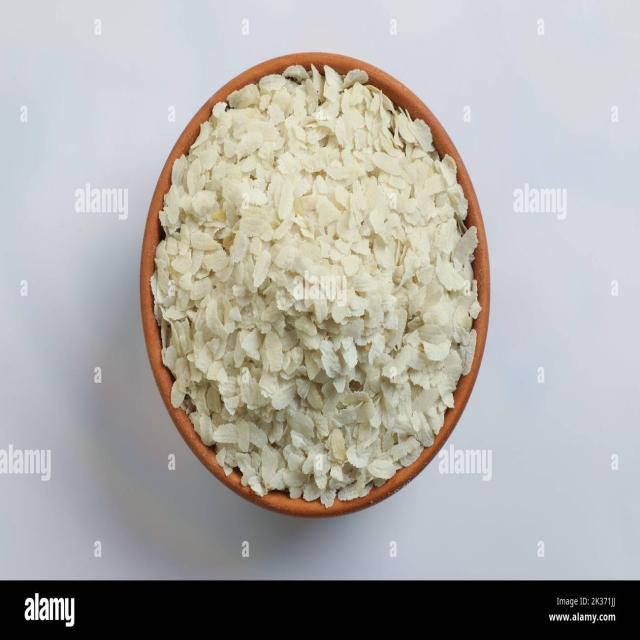UPMA: (155, 68, 481, 497)
